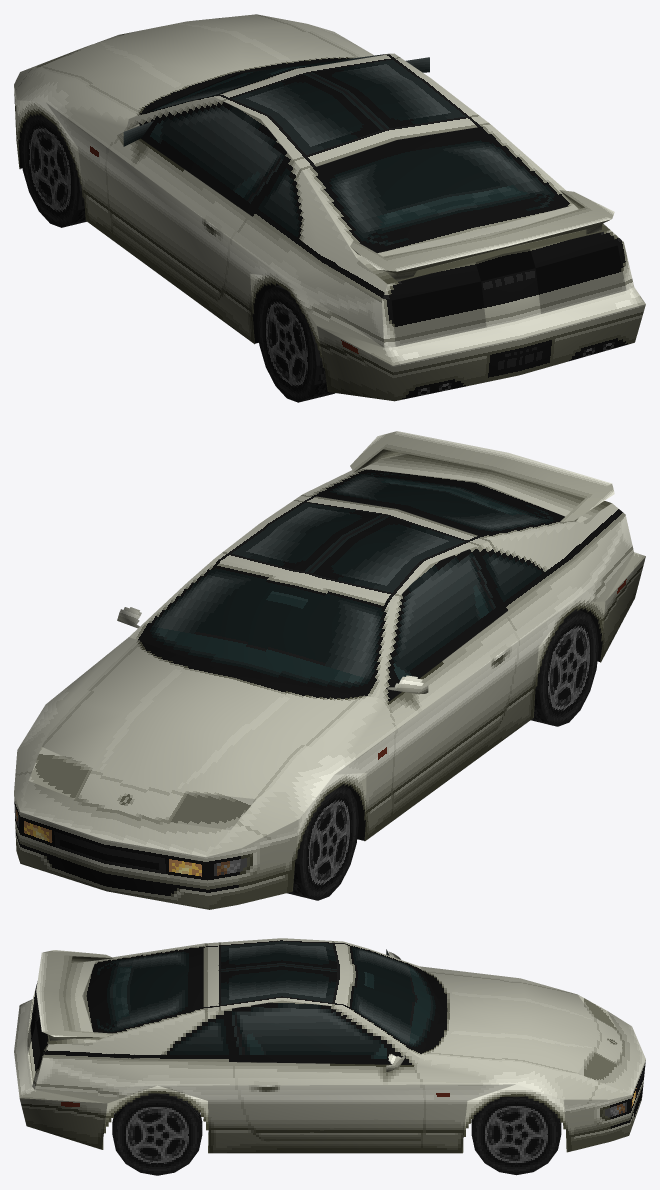
Rendered from night.glb.
3 renders of one model, top to bottom at view 1: azimuth 30°, elevation 25°; view 2: azimuth 150°, elevation 25°; view 3: azimuth 270°, elevation 25°, orthographic. The views are drawn at different scales.
Visible parts, largest first — view 1: Native body LOD0, Native wheel 2, Native wheel 0; view 2: Native body LOD0, Native wheel 2, Native wheel 0; view 3: Native body LOD0, Native wheel 3, Native wheel 1.
Boxes of the visible parts, x1,y1,x2,y2 form: Native body LOD0: (14, 14, 645, 401); Native wheel 2: (257, 285, 335, 402); Native wheel 0: (20, 113, 86, 227); Native body LOD0: (14, 431, 645, 909); Native wheel 2: (531, 609, 598, 726); Native wheel 0: (287, 785, 358, 900); Native body LOD0: (14, 938, 645, 1153); Native wheel 3: (112, 1093, 202, 1175); Native wheel 1: (471, 1096, 561, 1175).
Size of the model in its own units: 1.91 by 1.26 by 4.53.
Materials: 10 (9 with a texture image).
